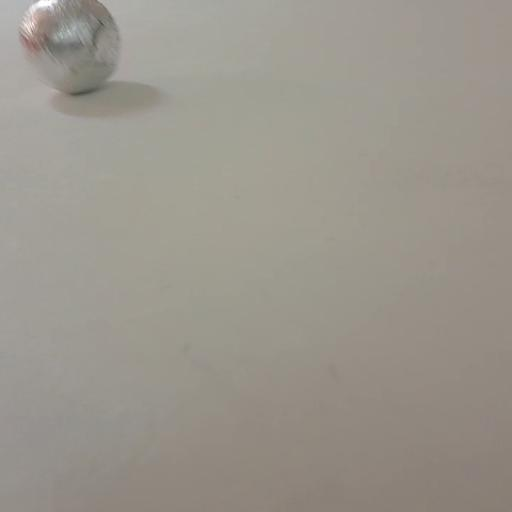alive: (16, 1, 122, 93)
